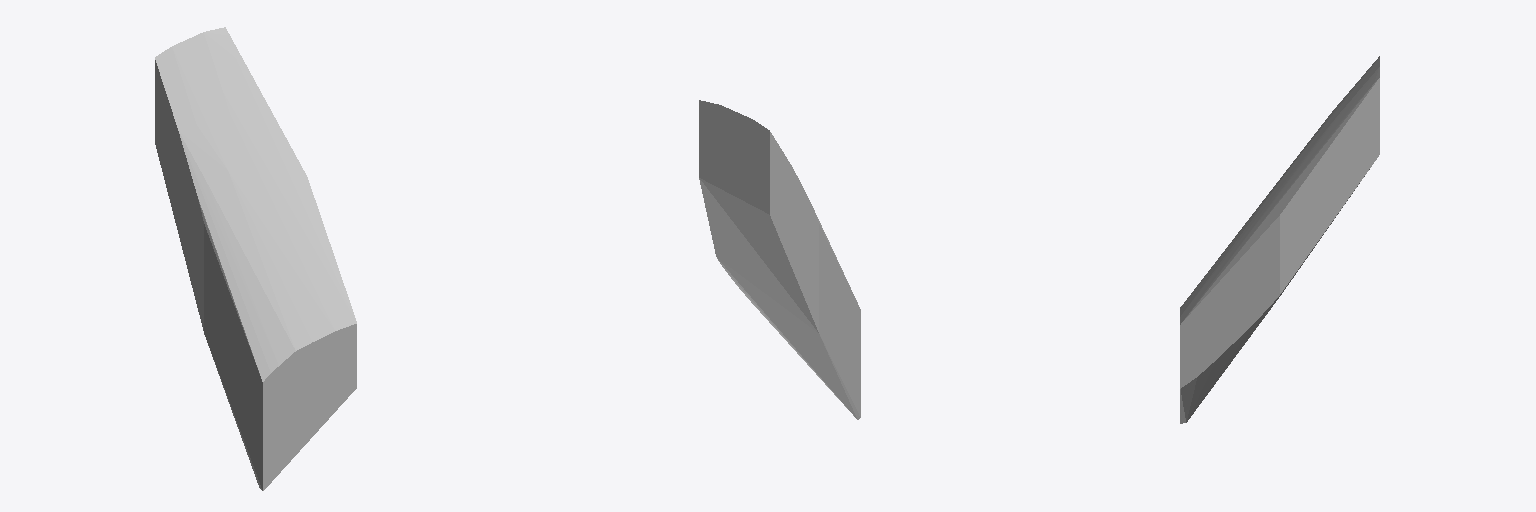
The model's file is phantom-elastrat_collision_299.obj.
3 views of the same model, side by side, from view 1: azimuth 30°, elevation 25°; view 2: azimuth 150°, elevation 25°; view 3: azimuth 270°, elevation 25° (orthographic).
Bounding box in the file's own units: 0.0037 × 0.0129 × 0.0062.